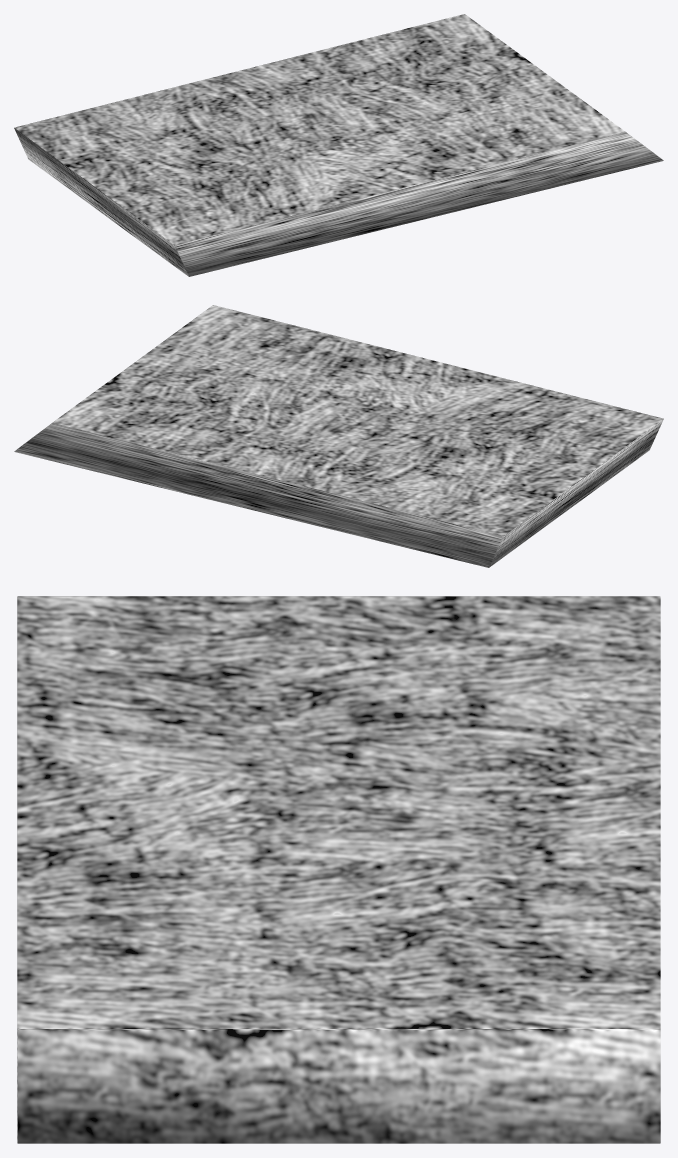
The model's file is techo_paja_punta_6x4.fbx.
3 views of the same model, one above another, from view 1: azimuth 30°, elevation 25°; view 2: azimuth 150°, elevation 25°; view 3: azimuth 270°, elevation 25° (orthographic). The views are drawn at different scales.
Parts seen in each view (by area): view 1: techo_paja_punta_6x4; view 2: techo_paja_punta_6x4; view 3: techo_paja_punta_6x4.
Boxes of the visible parts, <box> form: techo_paja_punta_6x4: <box>14,14,663,276</box>; techo_paja_punta_6x4: <box>14,305,663,567</box>; techo_paja_punta_6x4: <box>17,596,660,1143</box>.
Size of the model in its own units: 527 by 40 by 300.
